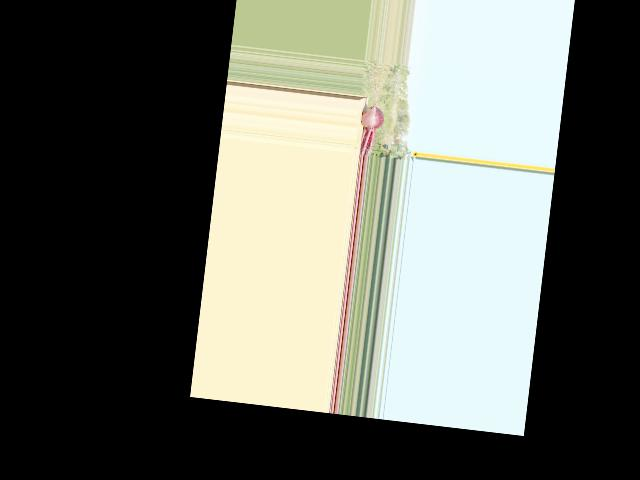beet: (356, 63, 389, 158)
